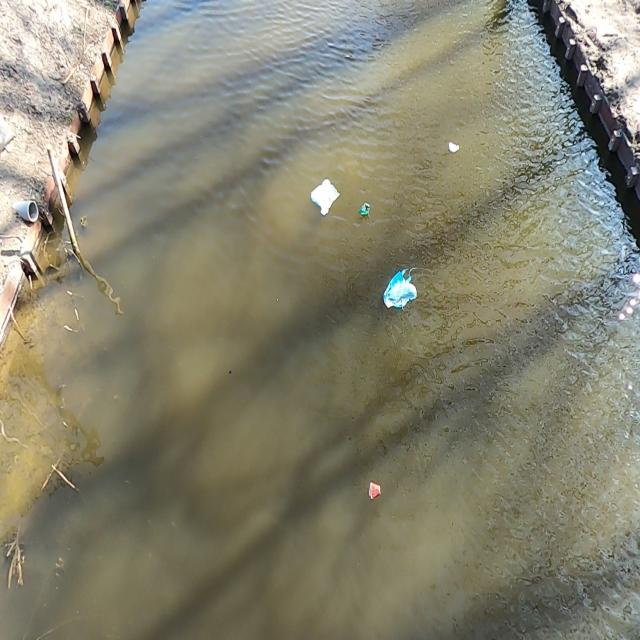Non plastique: (366, 482, 384, 502)
Sac plastique: (382, 264, 420, 324)
